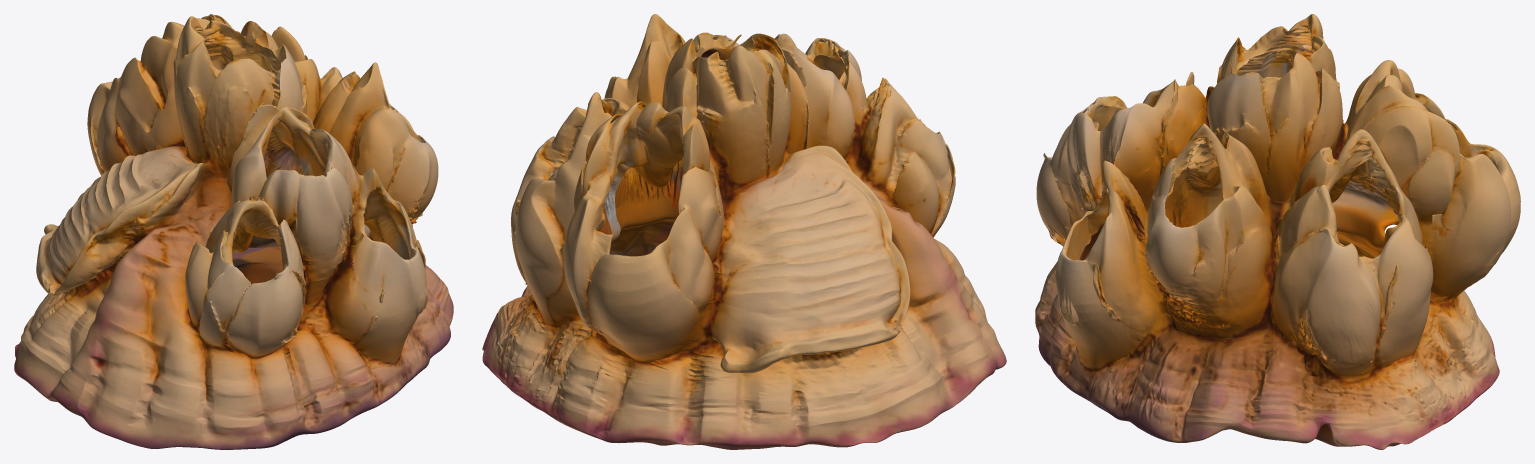
Rendered from Balanus Amphitrite.glb.
The picture shows the model from 3 angles, left to right: view 1: azimuth 30°, elevation 25°; view 2: azimuth 150°, elevation 25°; view 3: azimuth 270°, elevation 25°; orthographic projection. The views are drawn at different scales.
Parts seen in each view (by area): view 1: tripo_node_98322374-15d7-4197-9d7e-709bd3792259; view 2: tripo_node_98322374-15d7-4197-9d7e-709bd3792259; view 3: tripo_node_98322374-15d7-4197-9d7e-709bd3792259.
Part boxes in pixels (bbox=[...]): tripo_node_98322374-15d7-4197-9d7e-709bd3792259: bbox=[14, 14, 453, 449]; tripo_node_98322374-15d7-4197-9d7e-709bd3792259: bbox=[482, 14, 1006, 449]; tripo_node_98322374-15d7-4197-9d7e-709bd3792259: bbox=[1035, 14, 1520, 449].
Size of the model in its own units: 1 by 0.7845 by 0.9998.
Materials: 1 (1 with a texture image).
